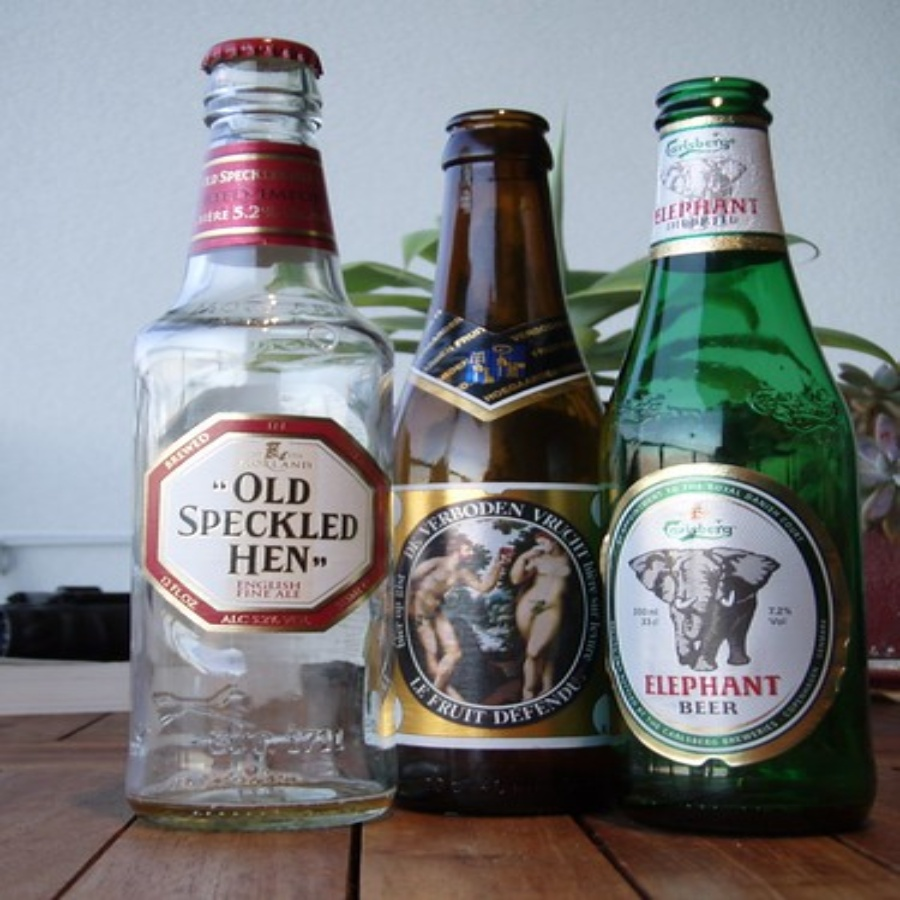beer: (602, 85, 860, 862), (385, 109, 601, 813)
